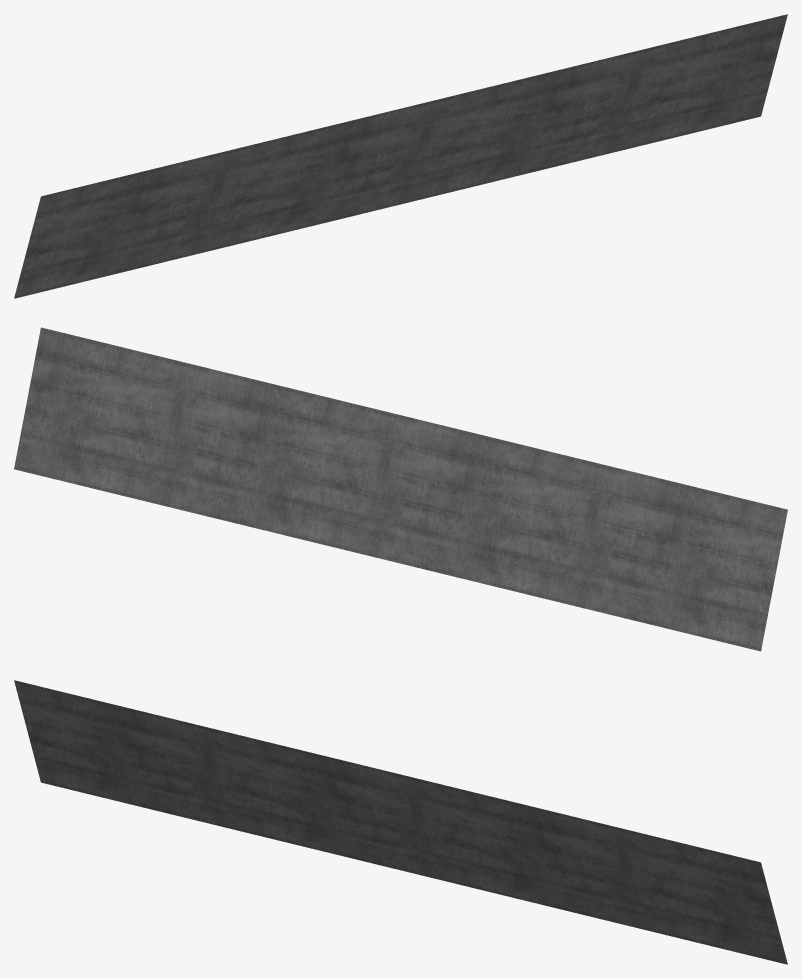
File: SM_Wall_32.fbx
The picture shows the model from 3 angles, top to bottom: view 1: azimuth 30°, elevation 25°; view 2: azimuth 150°, elevation 25°; view 3: azimuth 330°, elevation 25°; orthographic projection.
Visible parts, largest first — view 1: SM_Wall_33; view 2: SM_Wall_33; view 3: SM_Wall_33.
Part boxes in pixels (box(x1,y1,x2,y2)): SM_Wall_33: box(14, 14, 787, 298); SM_Wall_33: box(14, 327, 787, 651); SM_Wall_33: box(14, 680, 787, 964).
Bounding box in the file's own units: 1600 × 250 × 100.
